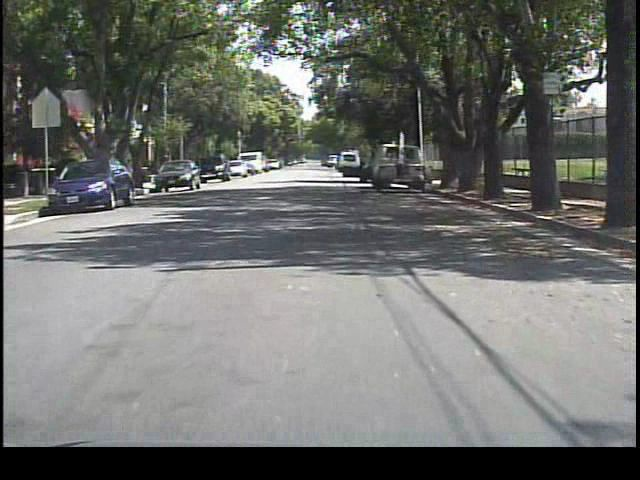person: (358, 159, 373, 187)
